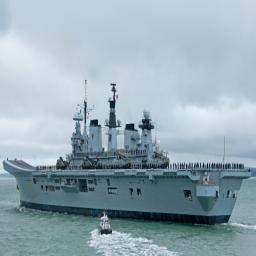Portanaves: (3, 75, 256, 220)
